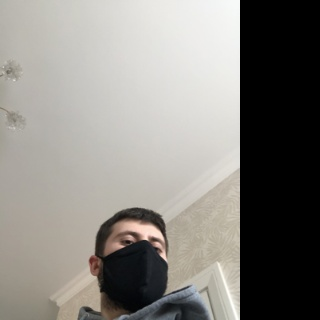with_mask: (103, 227, 168, 309)
